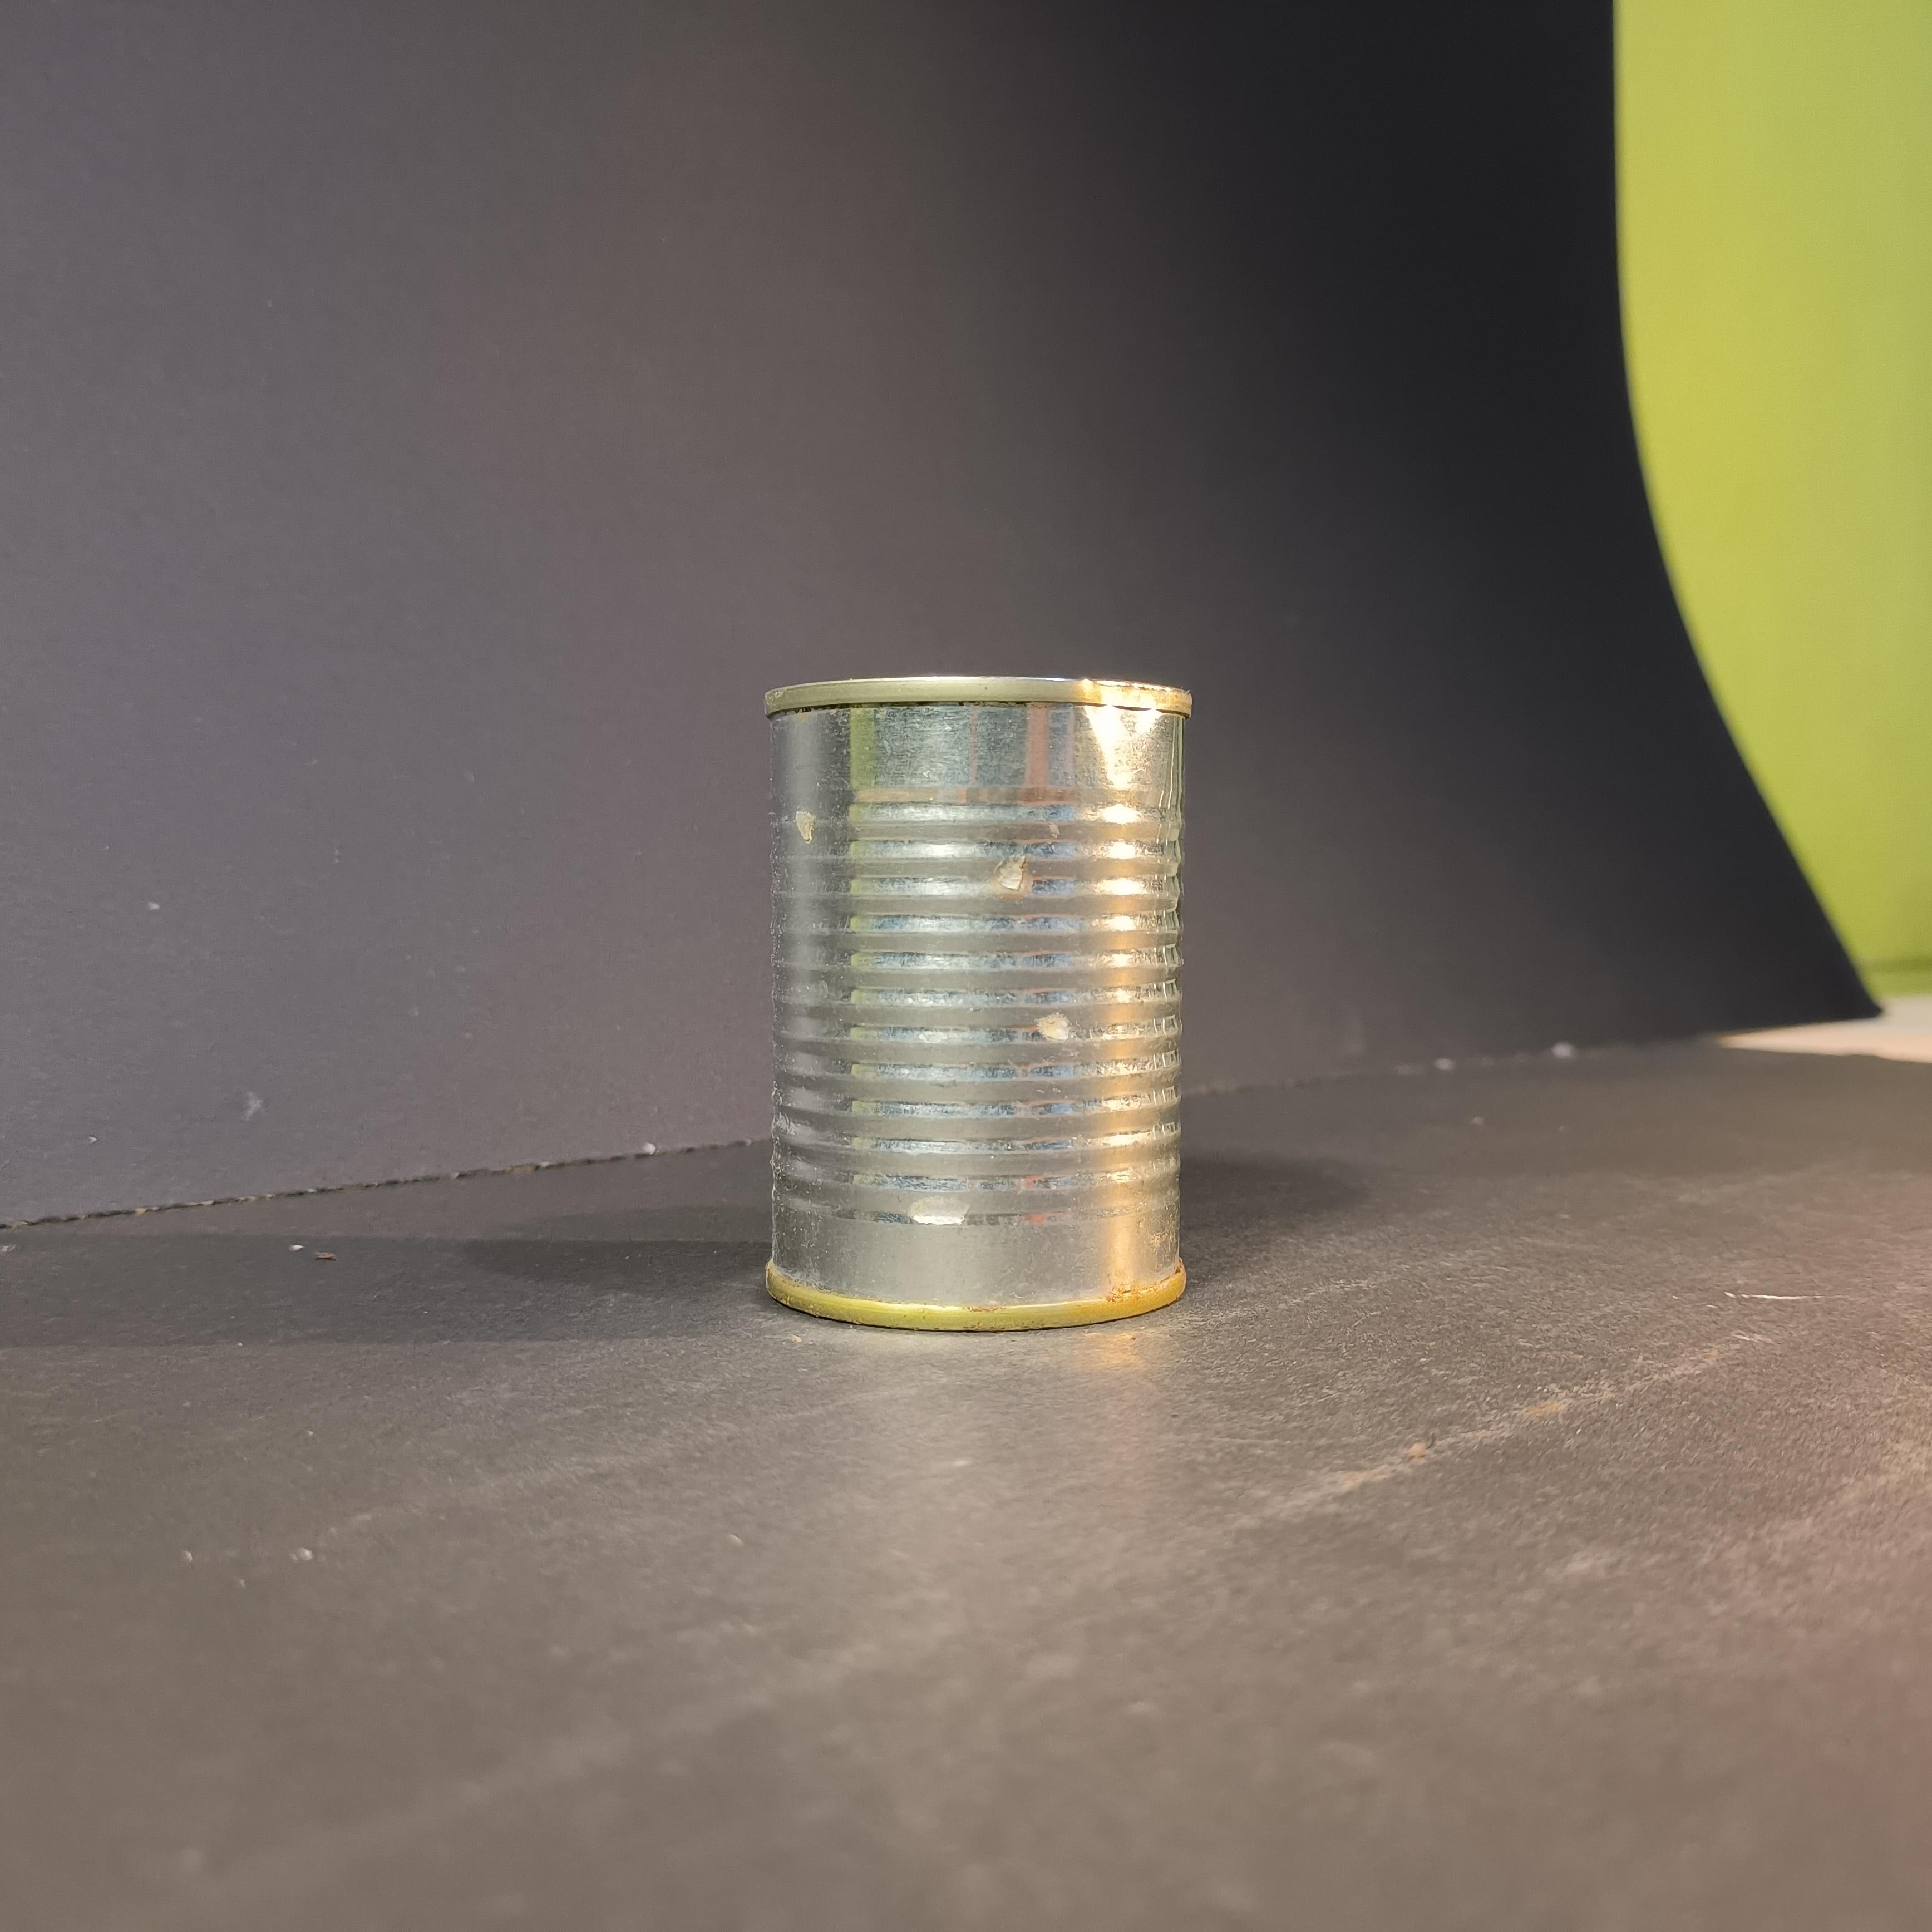Dented: (740, 662, 1224, 1338)
